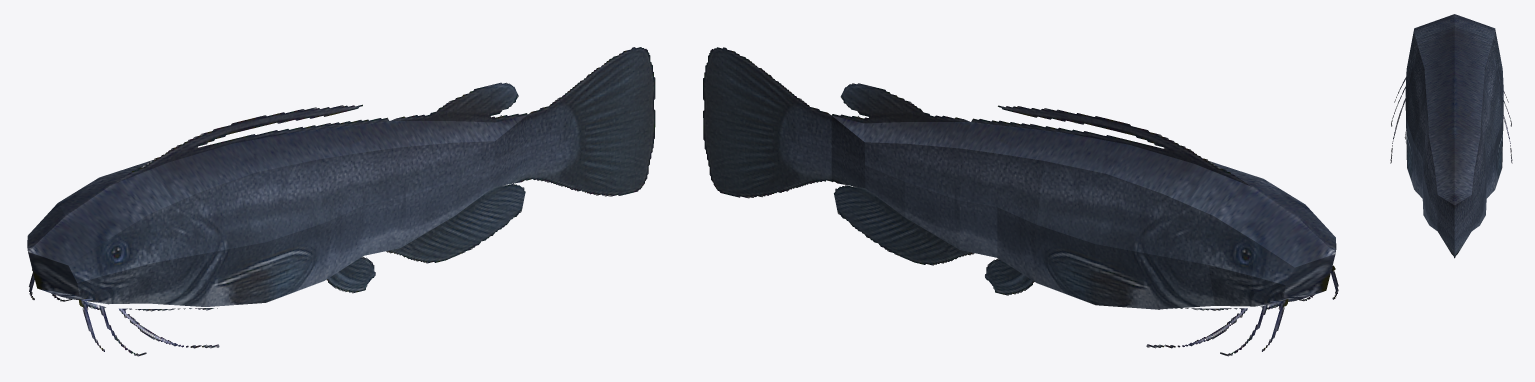
Rendered from Azureglide.fbx.
3 views of the same model, side by side, from view 1: azimuth 30°, elevation 25°; view 2: azimuth 150°, elevation 25°; view 3: azimuth 270°, elevation 25° (orthographic). The views are drawn at different scales.
Parts seen in each view (by area): view 1: Catfish; view 2: Catfish; view 3: Catfish.
Boxes of the visible parts, left/top/right/bottom form: Catfish: left=27, top=47, right=655, bottom=356; Catfish: left=703, top=47, right=1338, bottom=356; Catfish: left=1390, top=14, right=1512, bottom=258.
Bounding box in the file's own units: 183 × 57.61 × 42.41.
Materials: 1 (1 with a texture image).
